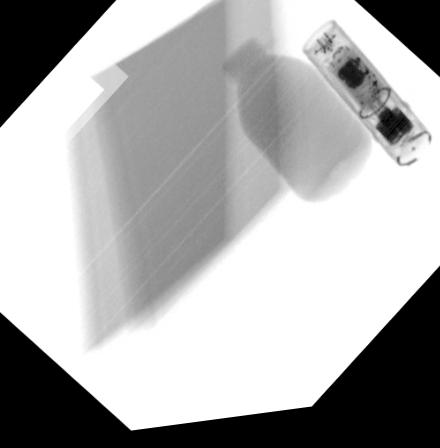Baton: (298, 24, 433, 179)
